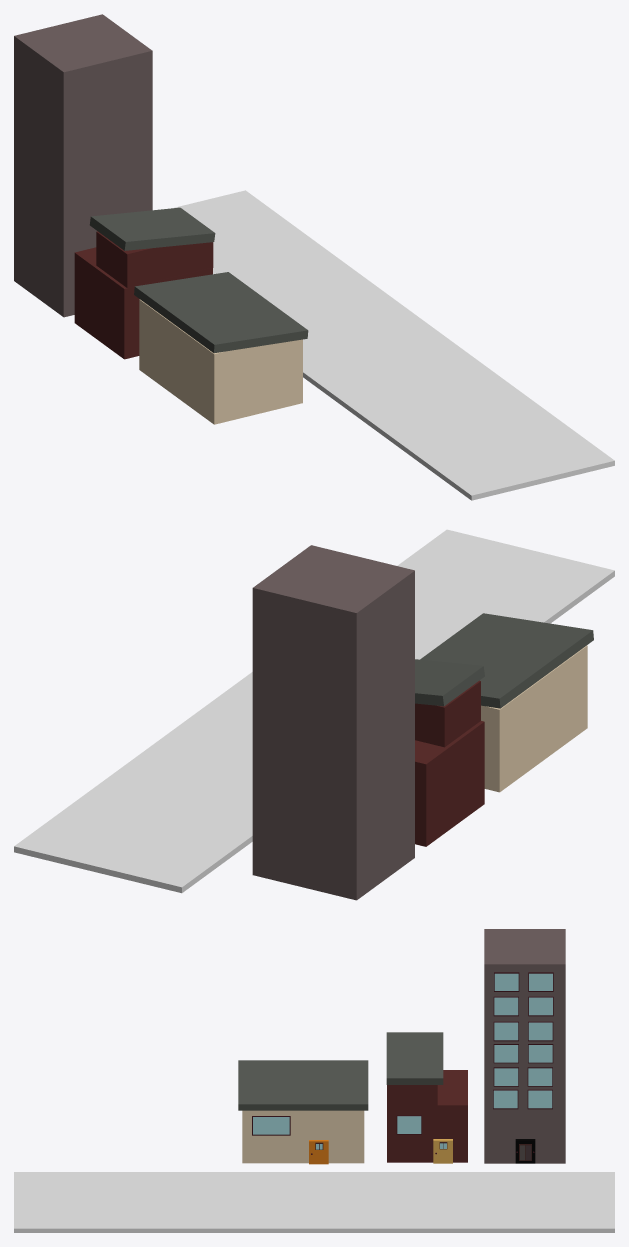
Rendered from Casa.glb.
3 renders of one model, top to bottom at view 1: azimuth 30°, elevation 25°; view 2: azimuth 150°, elevation 25°; view 3: azimuth 270°, elevation 25°, orthographic. The views are drawn at different scales.
Parts seen in each view (by area): view 1: Cube.046, Cube.016, Cube, Cube.007, Cube.015, Cube.045, Cube.008; view 2: Cube.016, Cube.046, Cube, Cube.007, Cube.015, Cube.045, Cube.008; view 3: Cube.046, Cube.016, Cube.007, Cube, Cube.015, Cube.008, Cube.045, Cube.006, Cube.027, Cube.030, Cube.031, Cube.042 (+11 smaller).
Part boxes in pixels (left/top/right/bottom): Cube.046: left=173, top=190, right=614, bottom=500; Cube.016: left=14, top=14, right=152, bottom=317; Cube: left=139, top=299, right=302, bottom=424; Cube.007: left=134, top=272, right=308, bottom=353; Cube.015: left=74, top=247, right=212, bottom=359; Cube.045: left=96, top=231, right=213, bottom=287; Cube.008: left=89, top=207, right=215, bottom=250; Cube.016: left=252, top=545, right=414, bottom=900; Cube.046: left=14, top=529, right=614, bottom=893; Cube: left=481, top=645, right=587, bottom=792; Cube.007: left=420, top=613, right=593, bottom=708; Cube.015: left=415, top=721, right=484, bottom=846; Cube.045: left=415, top=680, right=480, bottom=747; Cube.008: left=415, top=659, right=484, bottom=706; Cube.046: left=14, top=1172, right=614, bottom=1232; Cube.016: left=484, top=929, right=565, bottom=1163; Cube.007: left=238, top=1060, right=368, bottom=1110; Cube: left=242, top=1110, right=364, bottom=1163; Cube.015: left=387, top=1070, right=467, bottom=1162; Cube.008: left=386, top=1032, right=443, bottom=1084; Cube.045: left=387, top=1085, right=437, bottom=1105; Cube.006: left=253, top=1117, right=289, bottom=1134; Cube.027: left=494, top=997, right=518, bottom=1015; Cube.030: left=494, top=1022, right=518, bottom=1040; Cube.031: left=528, top=1022, right=552, bottom=1040; Cube.042: left=528, top=1090, right=552, bottom=1108.
Size of the model in its own units: 5.94 by 5.29 by 14.43.
